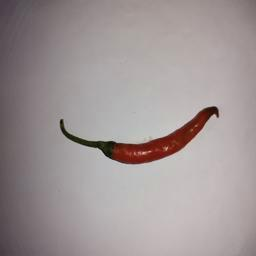Buah Cabai Sehat: (99, 104, 220, 165)
